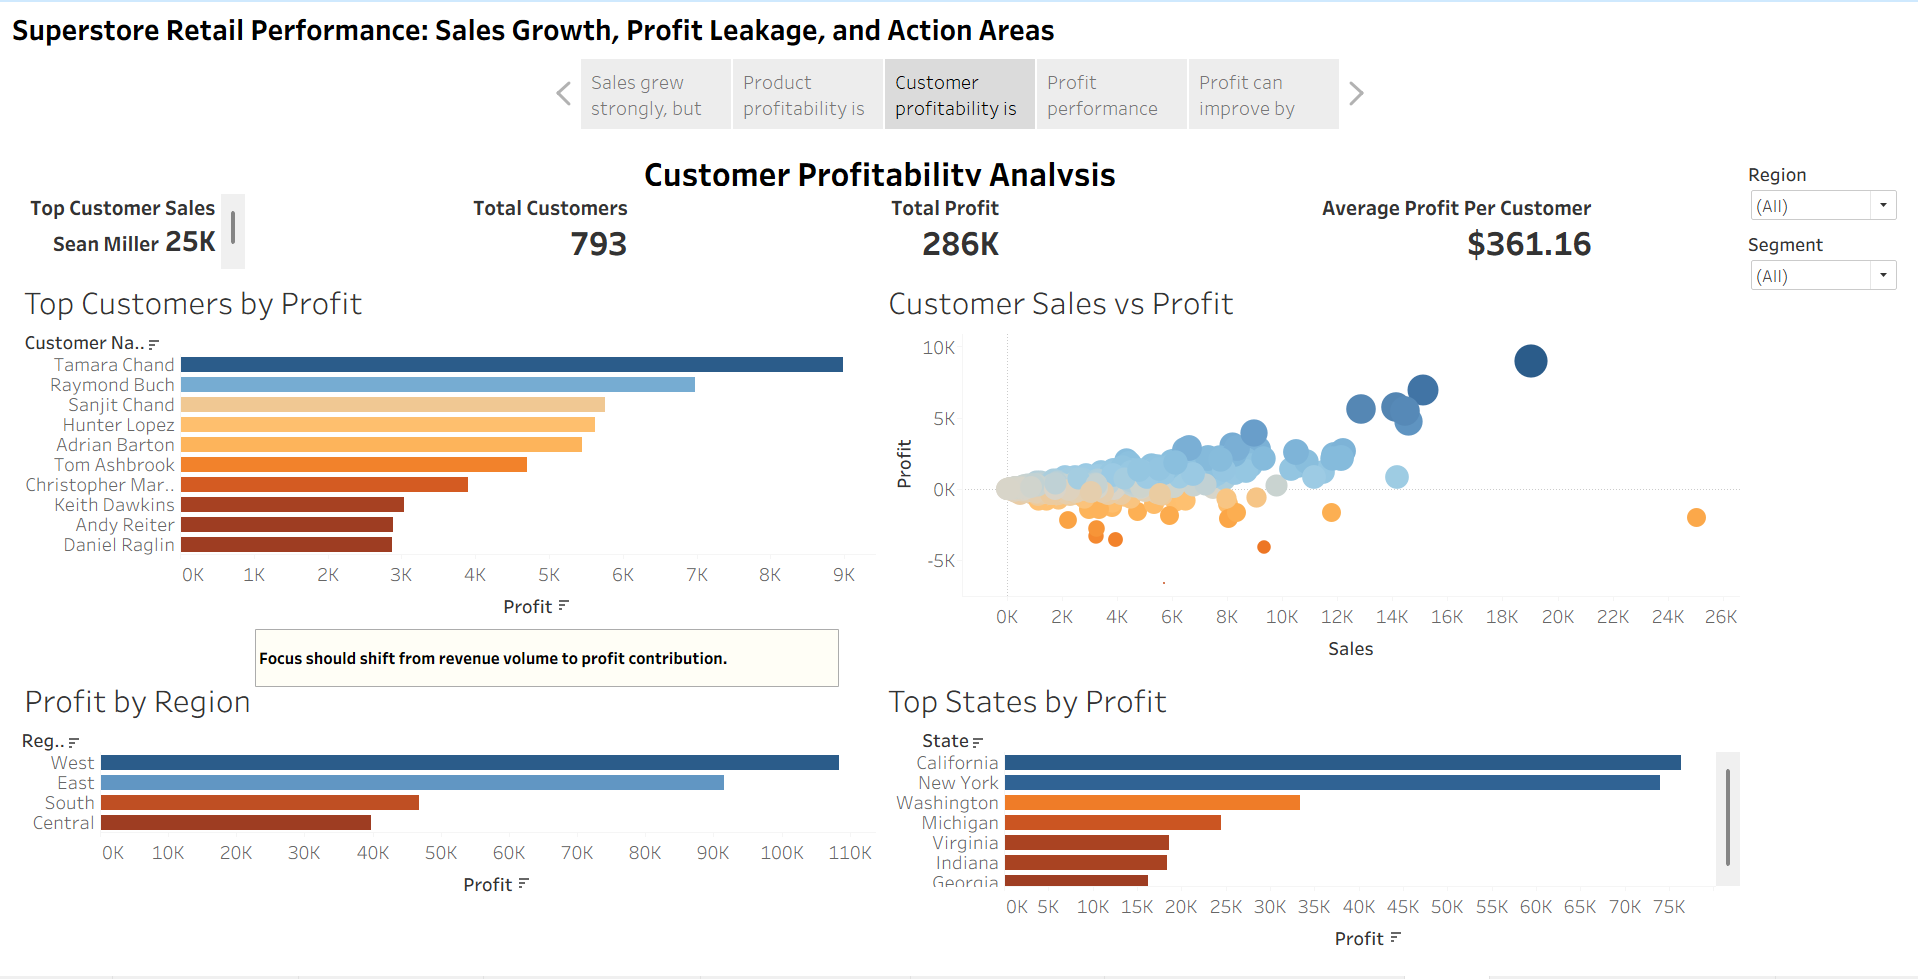

The page's visual inventory and layout, read from the dashboard file:
{"tool":"tableau","page":{"name":"CustomerProfitabilityAnalysis","canvas":[1000,1000],"units":"permille","ordinal":1},"visuals":[{"type":"text","box":[4.2,8.2,908.3,40.6]},{"type":"filter","title":"Top Customers by Profit","param":"[federated.1k9e1lu12u8j3r19thx170q1152m].[none:region:nk]","box":[912.5,8.2,83.3,71.8]},{"type":"worksheet","title":"Top Customer Sales","mark":"Automatic","box":[4.2,49.2,227.1,100.5]},{"type":"worksheet","title":"Total Customers","mark":"Automatic","box":[231.2,49.2,227.1,100.5]},{"type":"worksheet","title":"Total Profit","mark":"Automatic","box":[458.3,49.2,227.1,100.5]},{"type":"worksheet","title":"Average Profit per Customer","mark":"Automatic","box":[685.4,49.2,227.1,100.5]},{"type":"filter","title":"Top Customers by Profit","param":"[federated.1k9e1lu12u8j3r19thx170q1152m].[none:segment:nk]","box":[912.5,80,83.3,71.8]},{"type":"worksheet","title":"Top Customers by Profit","mark":"Bar","rows":["customer_name"],"cols":["profit"],"box":[4.2,150.8,454.2,486.2]},{"type":"worksheet","title":"Customer Sales vs Profit","mark":"Circle","rows":["profit"],"cols":["sales"],"box":[458.3,150.8,454.2,486.2]},{"type":"worksheet","title":"Profit by Region","mark":"Bar","rows":["region"],"cols":["profit"],"box":[4.2,636.9,454.2,354.9]},{"type":"worksheet","title":"Top States by Profit","mark":"Automatic","rows":["state"],"cols":["profit"],"box":[458.3,636.9,454.2,354.9]}]}

Visuals, with their boxes on the dashboard's canvas, which has no fixed pixel size, in thousandths of its width and height (x1, y1, x2, y2). These are canvas units, not pixel positions in the 1918x979 screenshot, which may show the page scaled, cropped or inside an application window:
text: select_region(4, 8, 912, 49)
"Top Customers by Profit" filter: select_region(912, 8, 996, 80)
"Top Customer Sales" worksheet: select_region(4, 49, 231, 150)
"Total Customers" worksheet: select_region(231, 49, 458, 150)
"Total Profit" worksheet: select_region(458, 49, 685, 150)
"Average Profit per Customer" worksheet: select_region(685, 49, 912, 150)
"Top Customers by Profit" filter: select_region(912, 80, 996, 152)
"Top Customers by Profit" worksheet (Bar marks): select_region(4, 151, 458, 637)
"Customer Sales vs Profit" worksheet (Circle marks): select_region(458, 151, 912, 637)
"Profit by Region" worksheet (Bar marks): select_region(4, 637, 458, 992)
"Top States by Profit" worksheet: select_region(458, 637, 912, 992)
